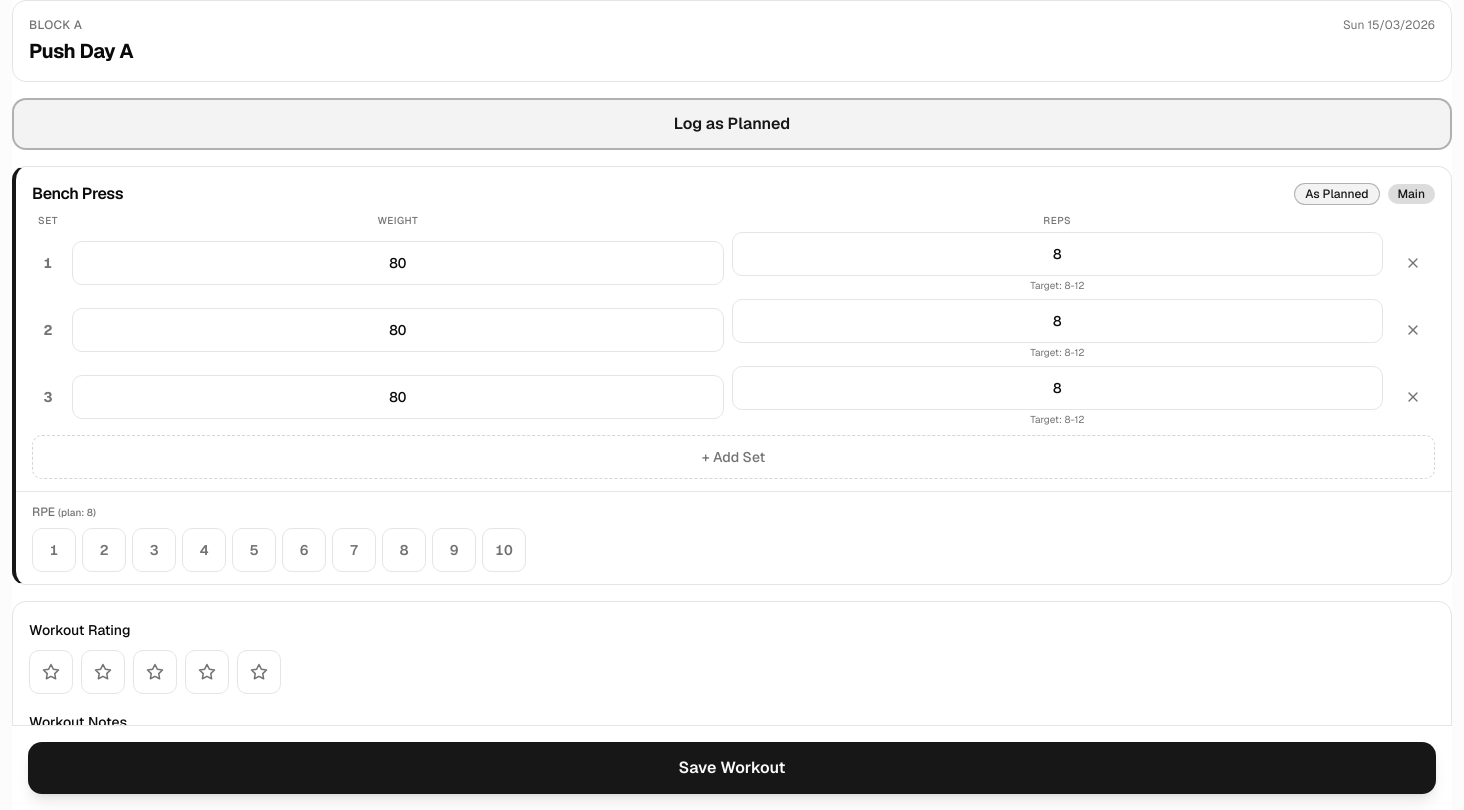
Scenario: Per-exercise "As Planned" button — resistance › AC24: tapping fills all sets with planned weight and lower-bound reps
This screenshot has width=1464, height=810.
Modify set values first
Clear the field with test id "weight-input-0-0" at [398, 262], box [72,240,724,284]
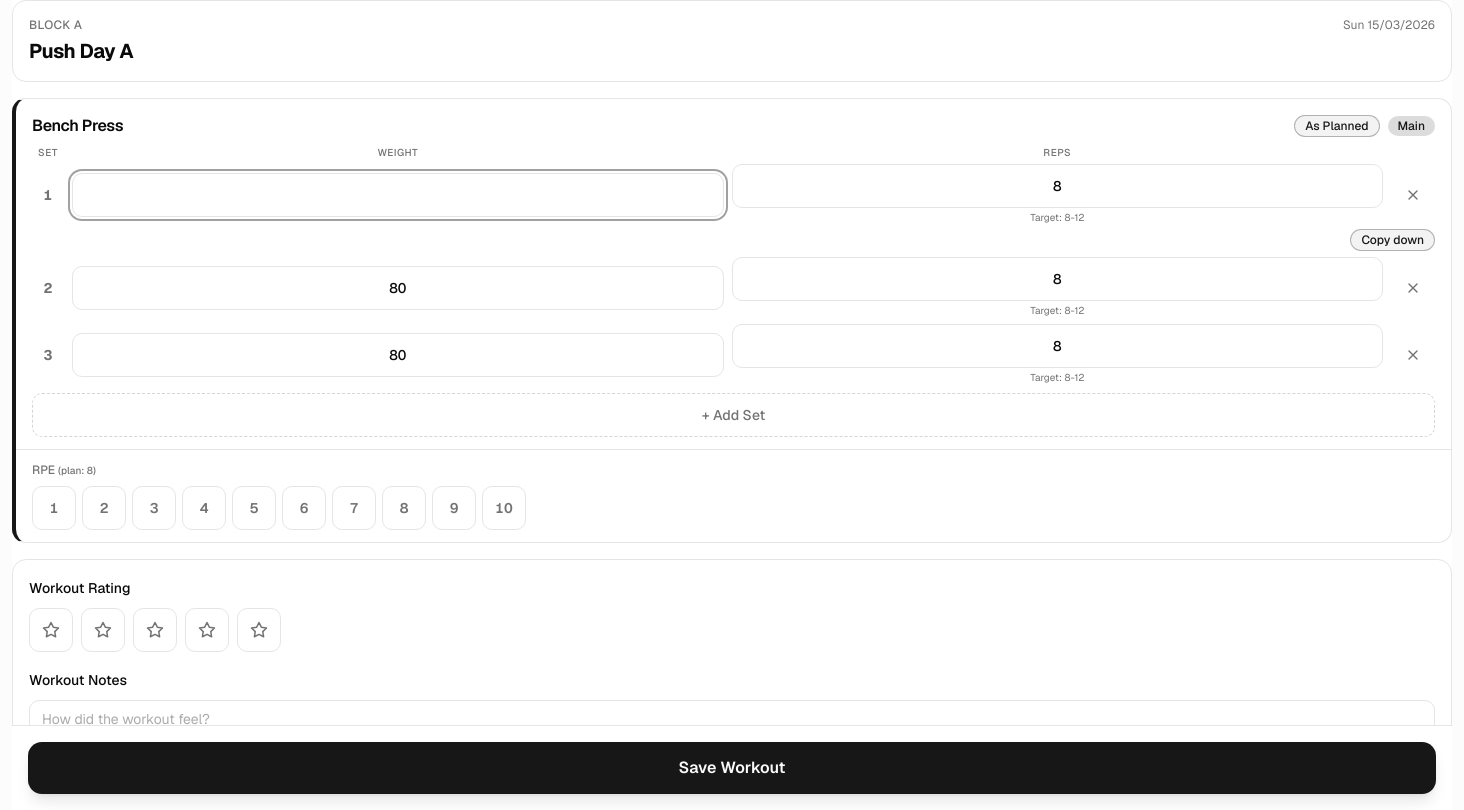
Type "90" into the field with test id "weight-input-0-0" at [398, 194], box [72,172,724,216]
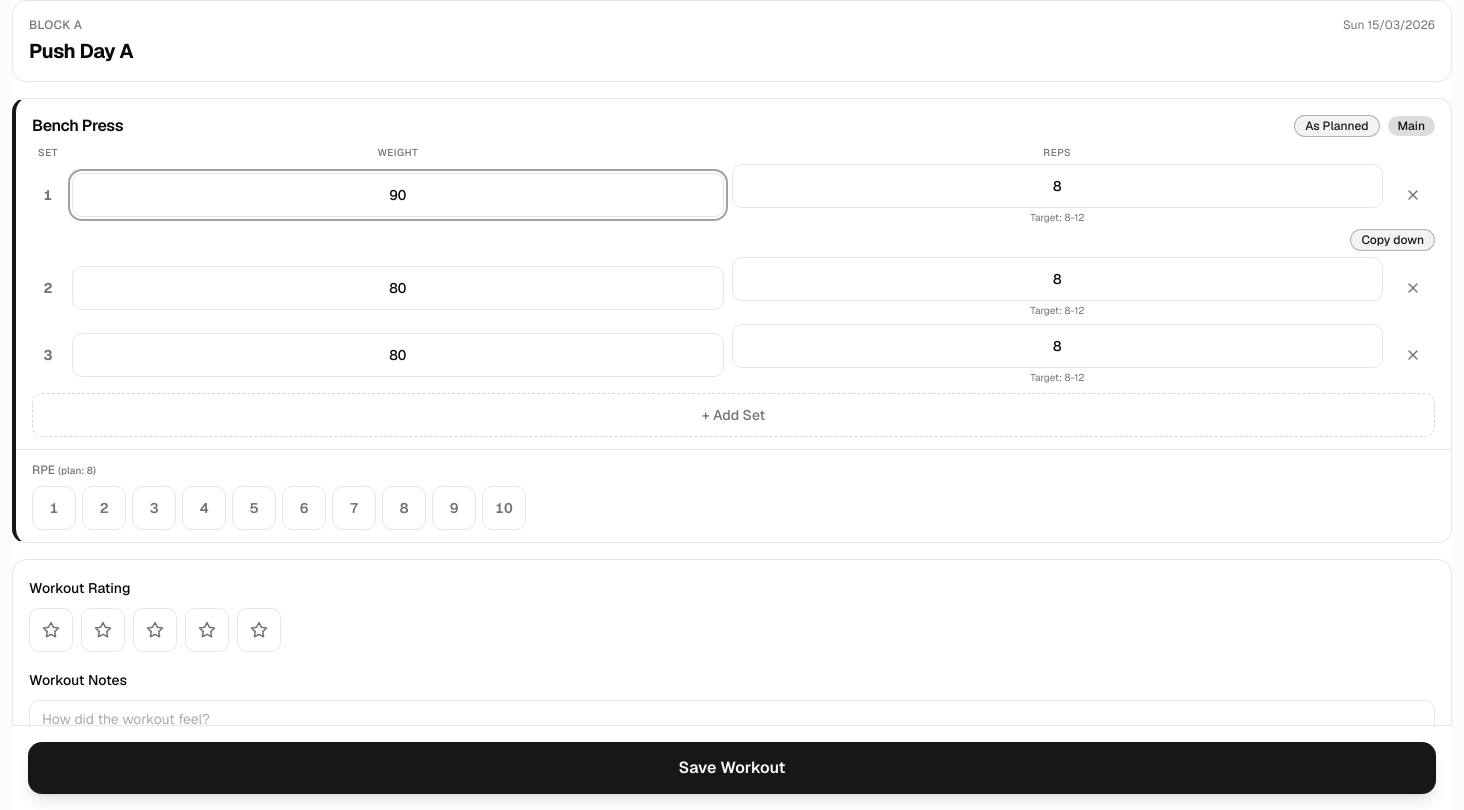
Tap "As Planned"
Click the button with test id "as-planned-btn-0" at [1337, 126], box [1294,115,1380,137]
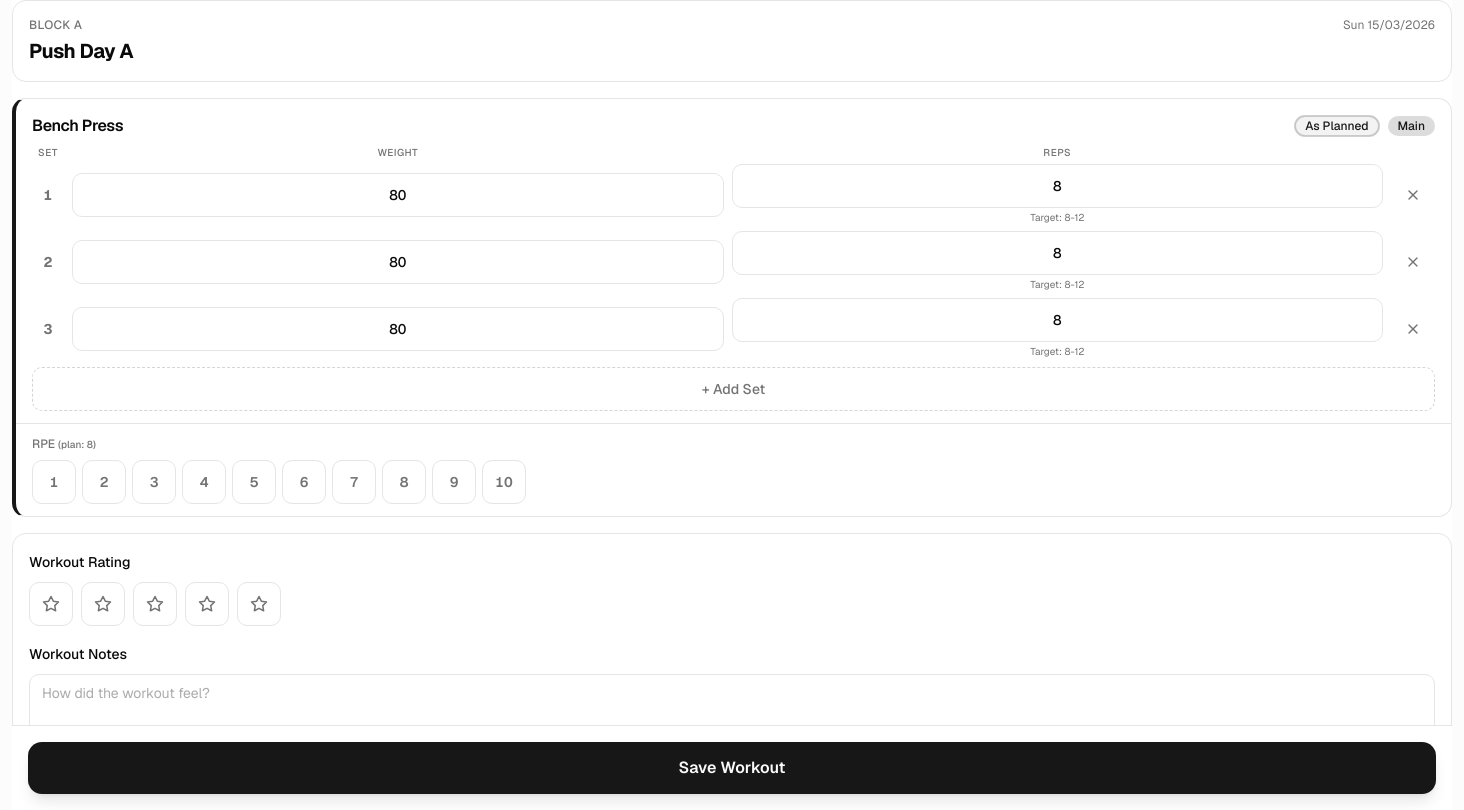
Expected: the field with test id "reps-input-0-0" holds "8", [732,164,1383,208]
Expected: the field with test id "weight-input-0-0" holds "80", [72,172,724,216]
